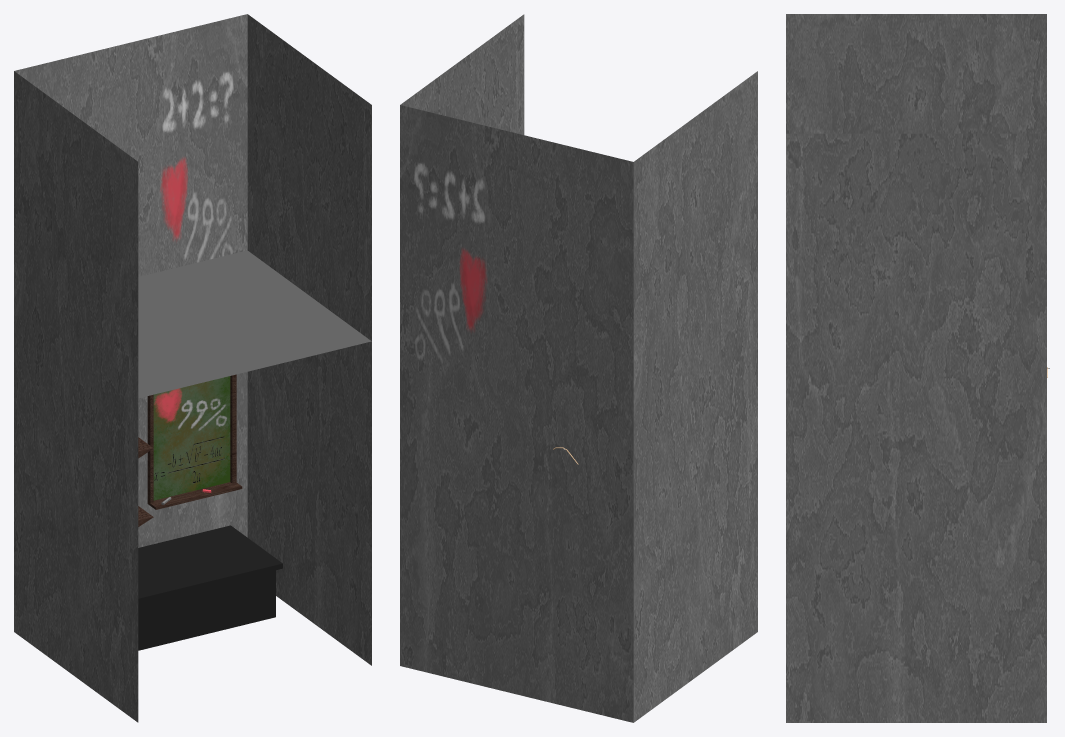
File: Tienda (3).fbx
The picture shows the model from 3 angles, left to right: view 1: azimuth 30°, elevation 25°; view 2: azimuth 150°, elevation 25°; view 3: azimuth 270°, elevation 25°; orthographic projection. The views are drawn at different scales.
Visible parts, largest first — view 1: pPlane9, pPlane8, pPlane7, pPlane17, pCube17, pCube20; view 2: pPlane7, pPlane9, pPlane8; view 3: pPlane8, pPlane9.
Part boxes in pixels (x1,y1,x2,y2): pPlane9: (14,71,138,722); pPlane8: (247,14,371,665); pPlane7: (14,14,247,547); pPlane17: (138,250,371,398); pCube17: (138,525,282,650); pCube20: (147,374,242,509); pPlane7: (400,105,633,722); pPlane9: (633,71,757,722); pPlane8: (400,14,524,134); pPlane8: (786,133,1046,722); pPlane9: (786,14,1046,133).
Size of what is drawn, in the model's own units: 15.87 by 36.5 by 14.84.
